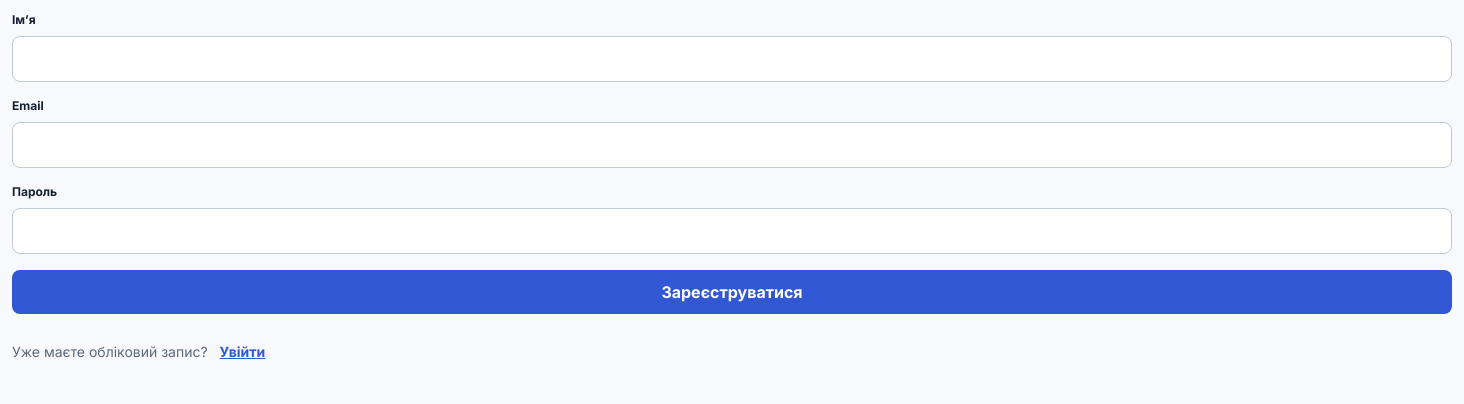
Test case: RegisterForm › keeps the email and shows its server error when it is already registered
Type "Олена" into the field labelled "Ім’я" at (732, 59), box [12,36,1452,82]
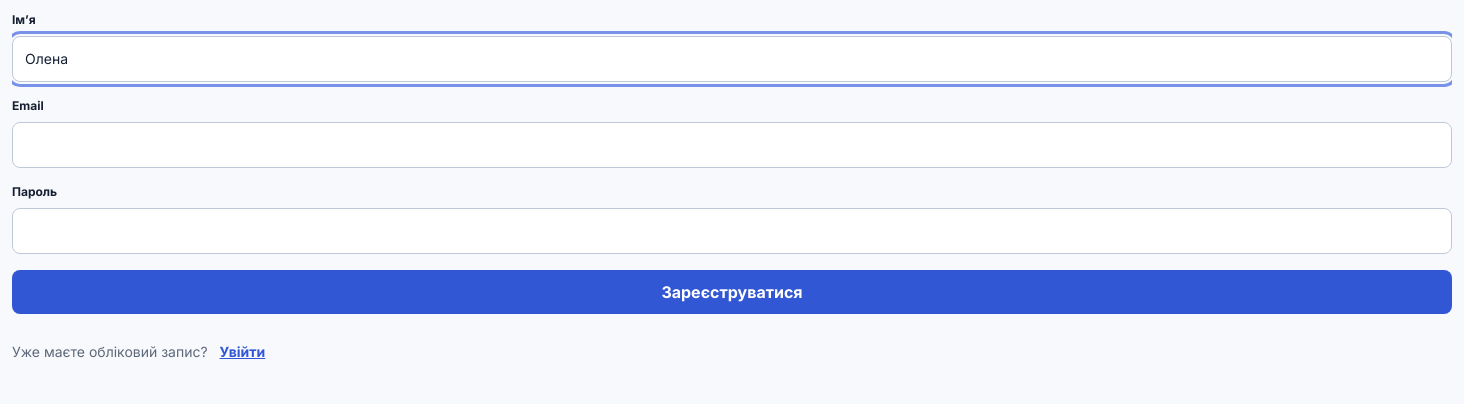
Type "olena@example.com" into the field labelled "Email" at (732, 145), box [12,122,1452,168]
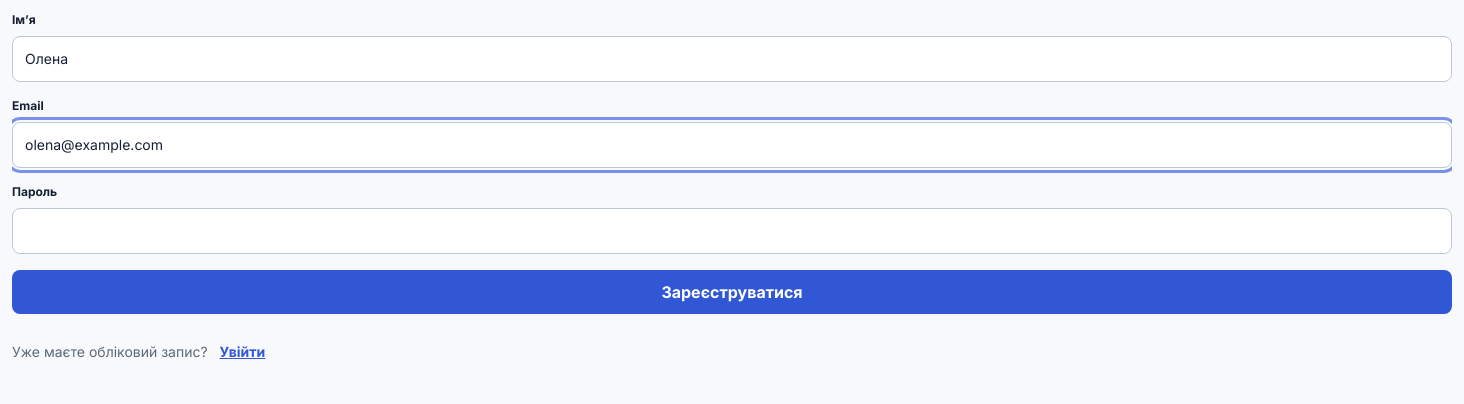
Type "secret-password" into the password field labelled "Пароль" at (732, 231), box [12,208,1452,254]
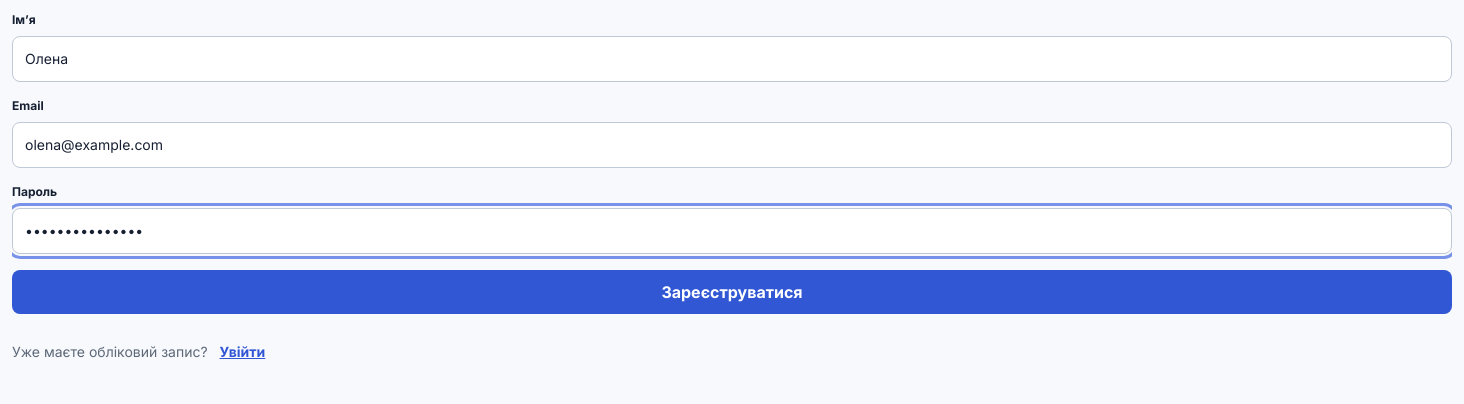
Click the button "Зареєструватися" at (732, 292), box [12,270,1452,314]
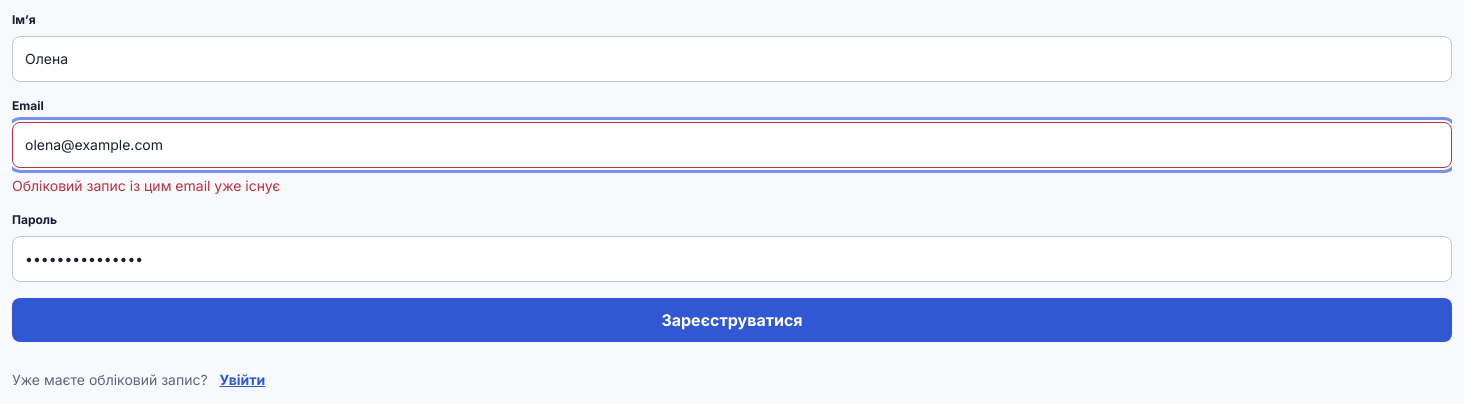
Now the text "Обліковий запис із цим email уже існує" is shown, box [12,177,280,194]
